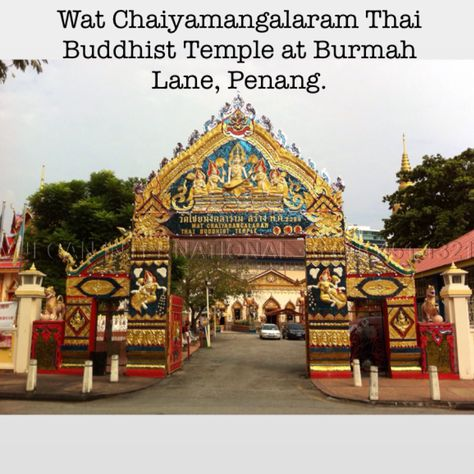Buddhist Temple: (119, 105, 346, 356)
